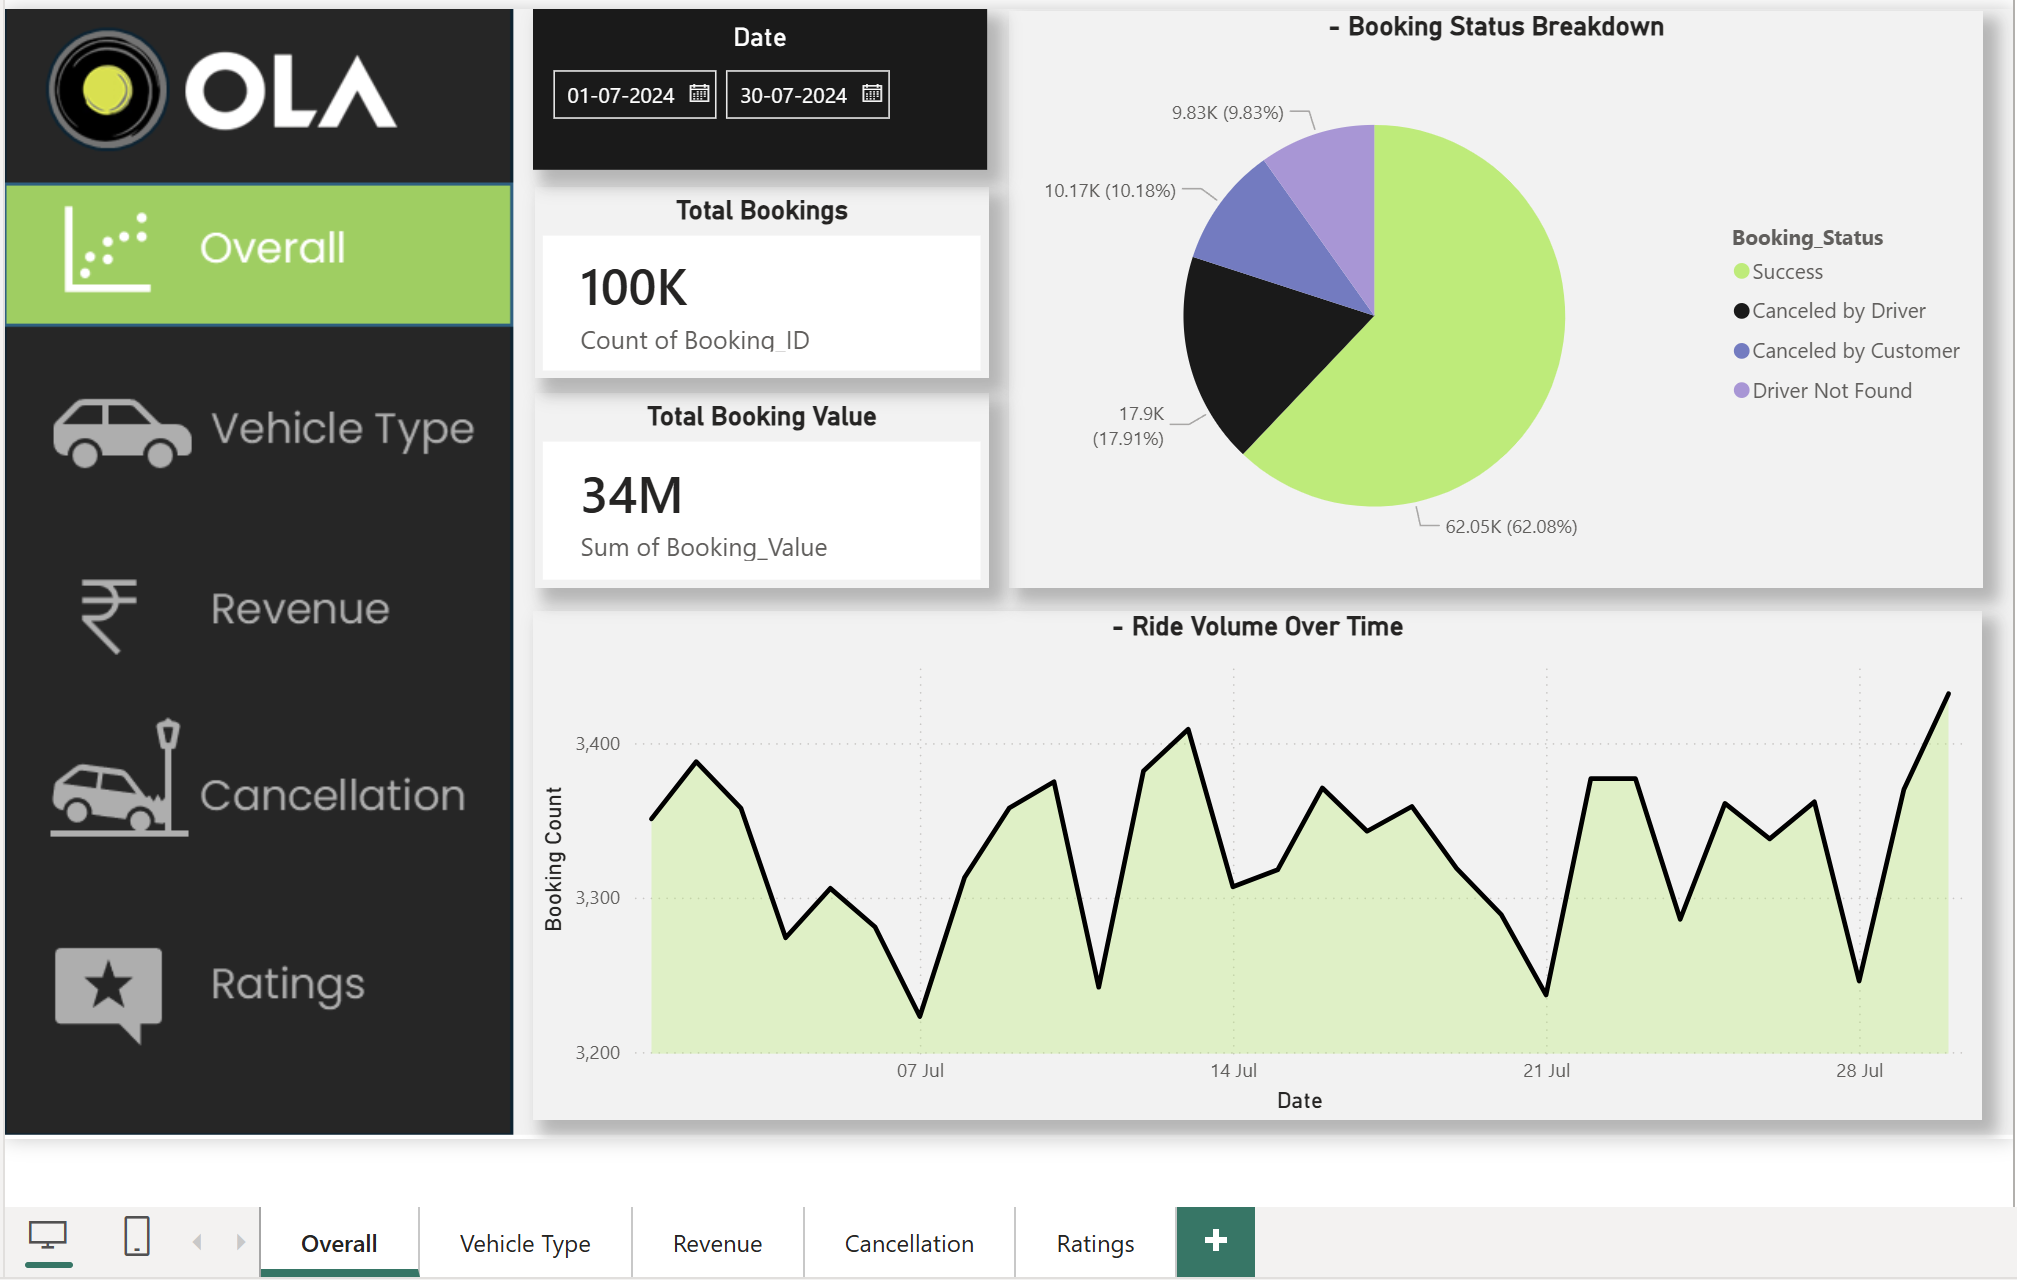

This screenshot's page, from the dashboard's own definition file:
{"tool":"powerbi","page":{"name":"Overall","canvas":[1280,720],"ordinal":0},"visuals":[{"type":"actionButton","box":[0,220.7,324.2,91],"z":0},{"type":"actionButton","box":[0,337.8,324.2,89.9],"z":1000},{"type":"actionButton","box":[1.1,447,324.2,102.4],"z":2000},{"type":"actionButton","box":[0,580.1,324.2,89.9],"z":3000},{"type":"lineChart","title":"-\tRide Volume Over Time","fields":{"Category":["Bookings_OLA_Dataset.Date"],"Y":["CountNonNull(Bookings_OLA_Dataset.Booking_ID)"]},"box":[336.4,383.1,923.4,324.7],"z":4000},{"type":"pieChart","title":"-\tBooking Status Breakdown","fields":{"Category":["Bookings_OLA_Dataset.Booking_Status"],"Y":["CountNonNull(Bookings_OLA_Dataset.Booking_Status)"]},"box":[640.3,1.3,620.8,367.5],"z":5000},{"type":"slicer","title":"Date","fields":{"Values":["Bookings_OLA_Dataset.Date"]},"box":[336.4,0,289.6,102.6],"z":6000},{"type":"cardVisual","title":"Total Bookings","fields":{"Data":["CountNonNull(Bookings_OLA_Dataset.Booking_ID)"]},"box":[337.7,113,289.6,122.1],"z":7000},{"type":"cardVisual","title":"Total Booking Value","fields":{"Data":["Sum(Bookings_OLA_Dataset.Booking_Value)"]},"box":[337.7,244.2,289.6,124.7],"z":8000}]}

Visuals, with their boxes on the page's 1280x720 design canvas (x1, y1, x2, y2). These are canvas units, not pixel positions in the 2017x1280 screenshot, which may show the page scaled, cropped or inside an application window:
actionButton: [left=0, top=221, right=324, bottom=312]
actionButton: [left=0, top=338, right=324, bottom=428]
actionButton: [left=1, top=447, right=325, bottom=549]
actionButton: [left=0, top=580, right=324, bottom=670]
"-	Ride Volume Over Time" lineChart: [left=336, top=383, right=1260, bottom=708]
"-	Booking Status Breakdown" pieChart: [left=640, top=1, right=1261, bottom=369]
"Date" slicer: [left=336, top=0, right=626, bottom=103]
"Total Bookings" cardVisual: [left=338, top=113, right=627, bottom=235]
"Total Booking Value" cardVisual: [left=338, top=244, right=627, bottom=369]
